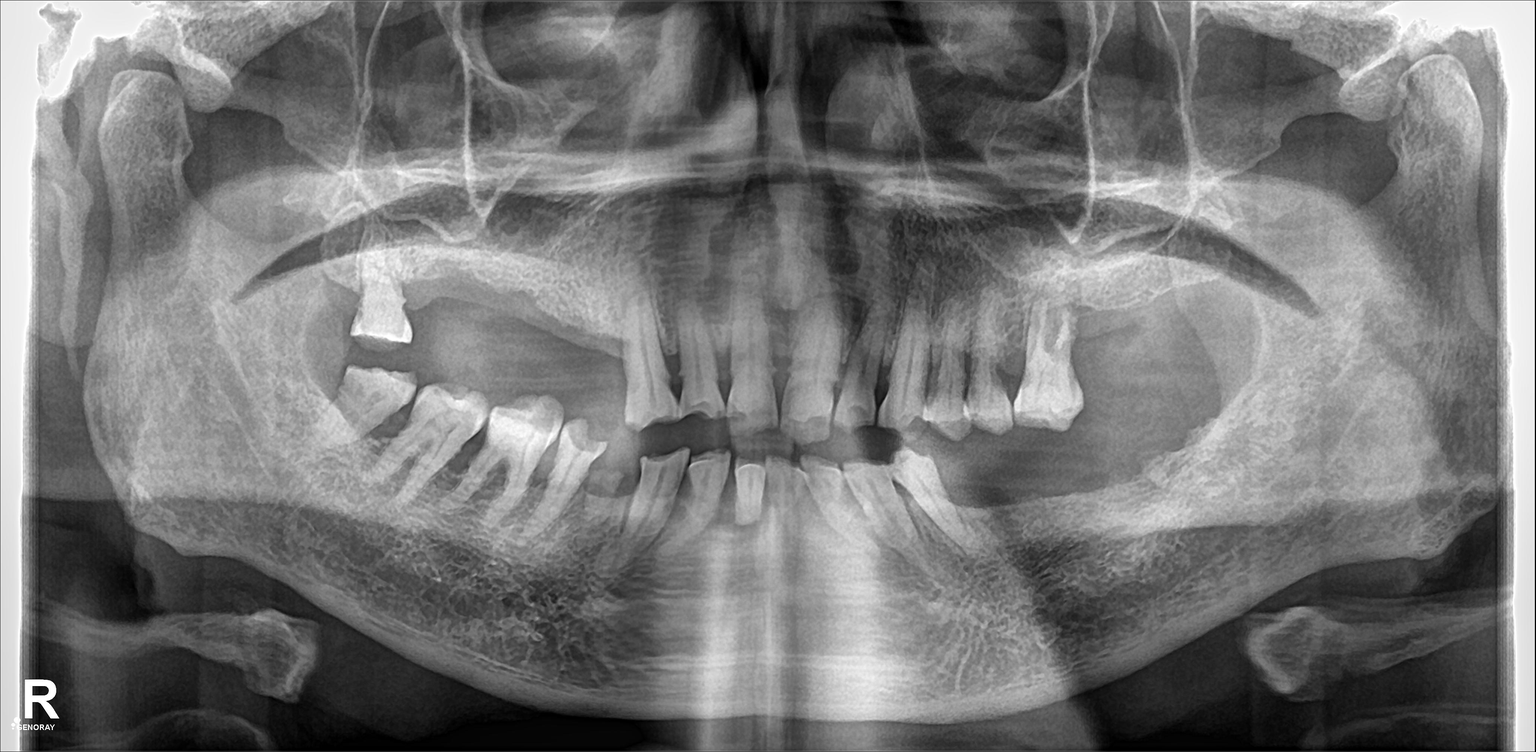Impacted Third Molar: (326, 365, 410, 435)
Missing Tooth: (1181, 283, 1251, 390), (410, 248, 465, 381), (471, 242, 520, 386), (981, 449, 1044, 559), (577, 270, 626, 410), (1106, 421, 1164, 536), (1041, 437, 1102, 545), (527, 262, 572, 398), (1080, 300, 1131, 420), (317, 214, 359, 344), (1177, 413, 1232, 511), (1138, 287, 1178, 399)
Retained Root: (588, 449, 627, 542)
